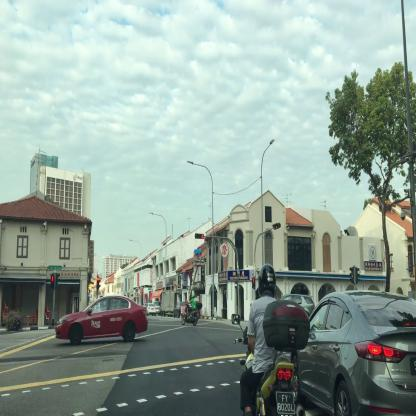red_traffic_light: (195, 233, 203, 238), (96, 276, 98, 288)
